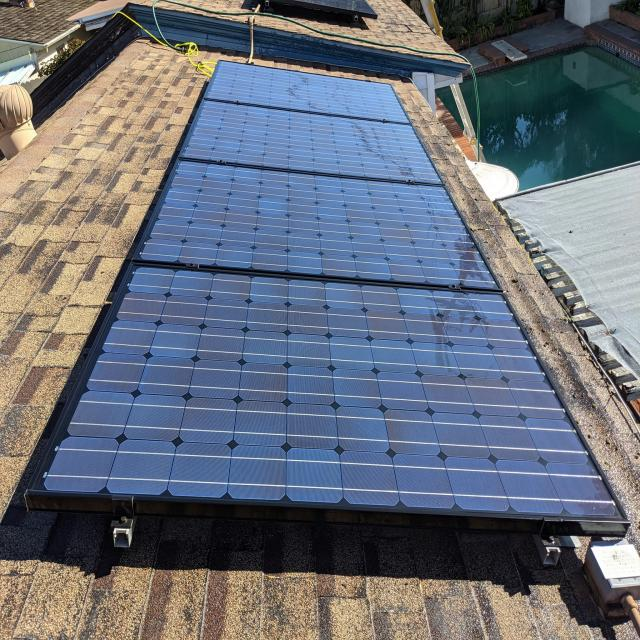clean-solar-panel: (328, 307, 368, 338)
